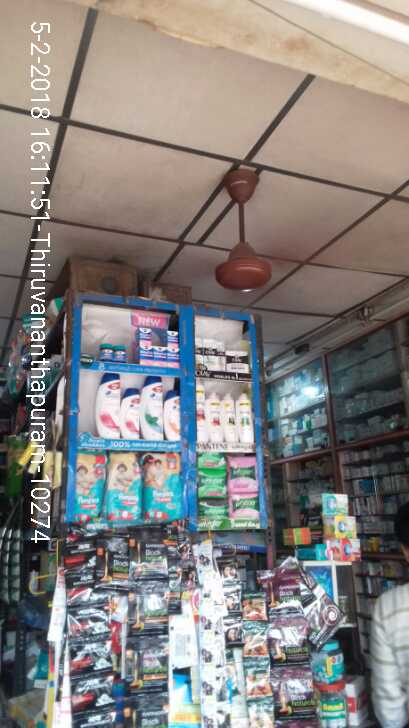vicks: (101, 325, 183, 367)
